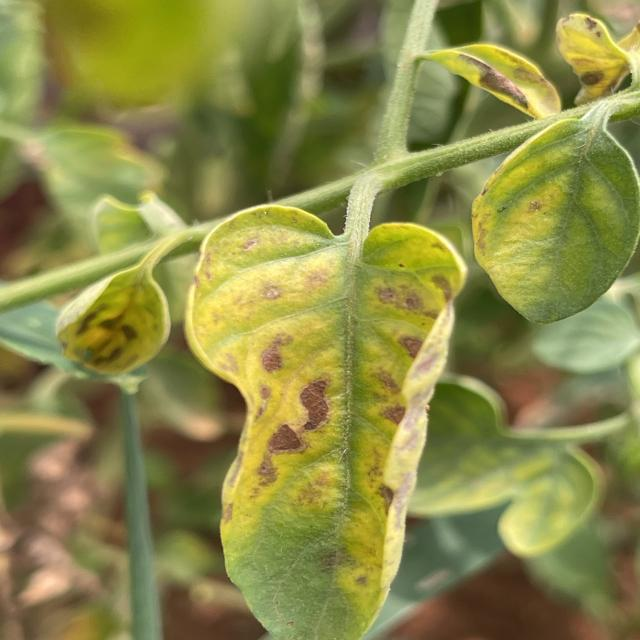tomato_early blight: (185, 199, 465, 640), (470, 103, 640, 330), (55, 233, 180, 375), (417, 40, 565, 119), (553, 8, 639, 109)
